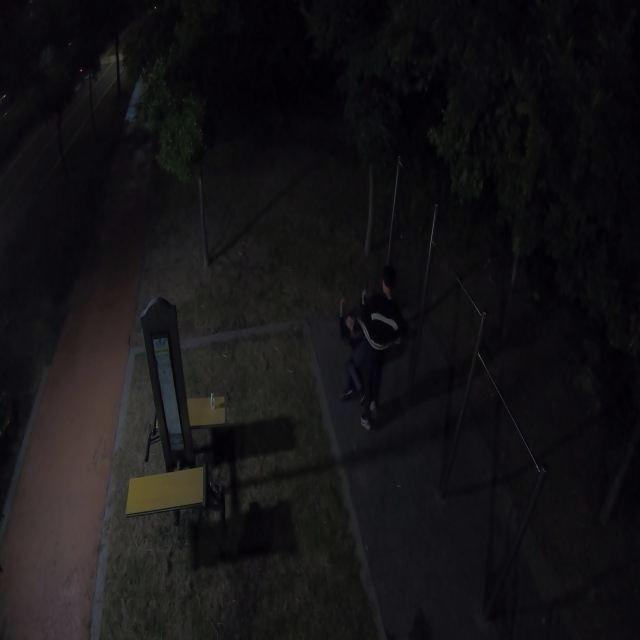fight: (338, 270, 410, 428)
